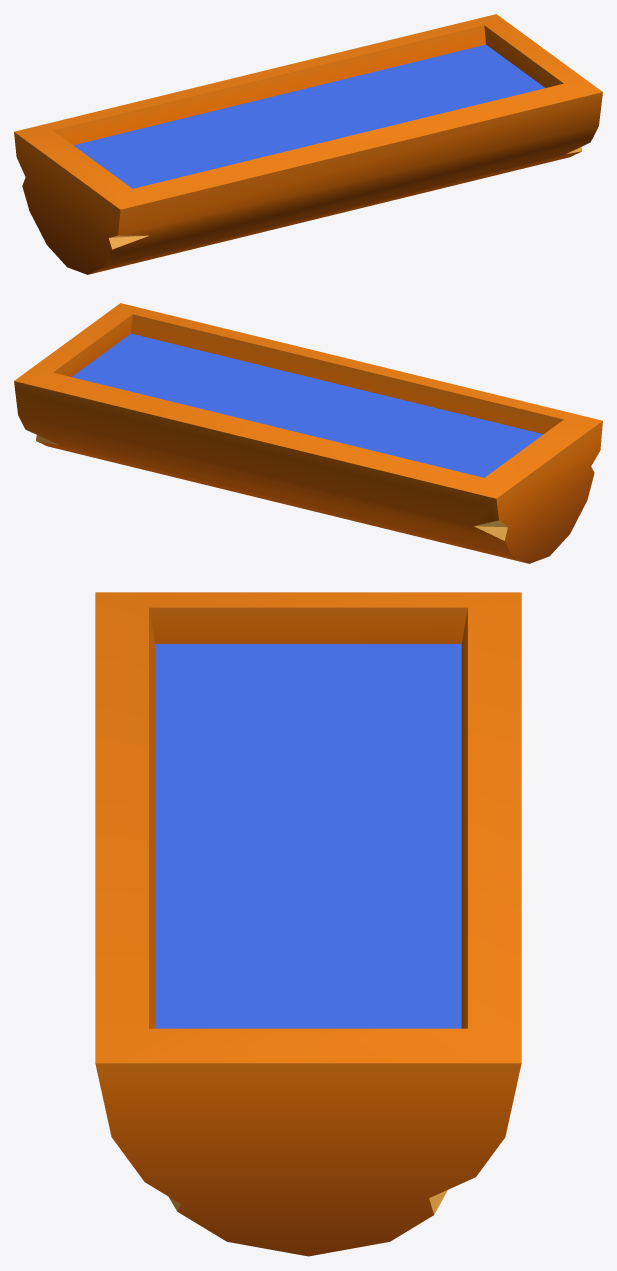
The model's file is Farm_Animal_Props_Water_Trough_01.fbx.
3 renders of one model, top to bottom at view 1: azimuth 30°, elevation 25°; view 2: azimuth 150°, elevation 25°; view 3: azimuth 270°, elevation 25°, orthographic. The views are drawn at different scales.
Visible parts, largest first — view 1: Farm_Animal_Props_Water_Trough_01; view 2: Farm_Animal_Props_Water_Trough_01; view 3: Farm_Animal_Props_Water_Trough_01.
Part boxes in pixels (box(x1,y1,x2,y2)): Farm_Animal_Props_Water_Trough_01: box(14, 14, 602, 274); Farm_Animal_Props_Water_Trough_01: box(14, 303, 602, 563); Farm_Animal_Props_Water_Trough_01: box(95, 592, 521, 1256).
Bounding box in the file's own units: 238 × 47.91 × 91.25.
